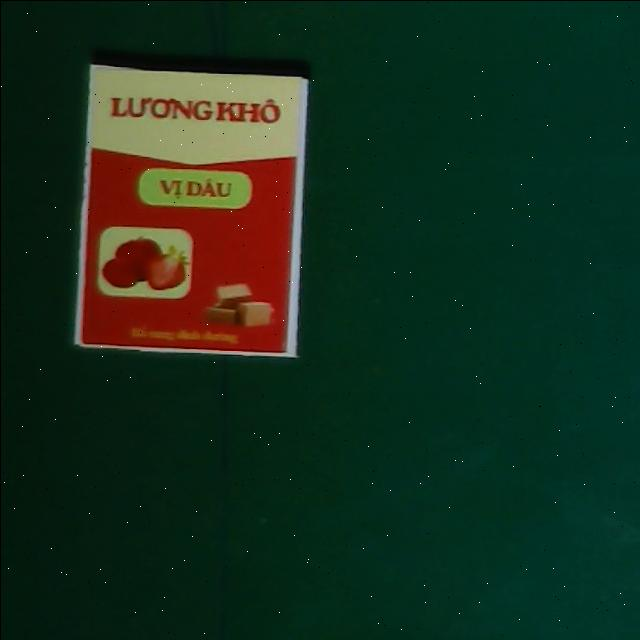dau: (74, 63, 308, 357)
